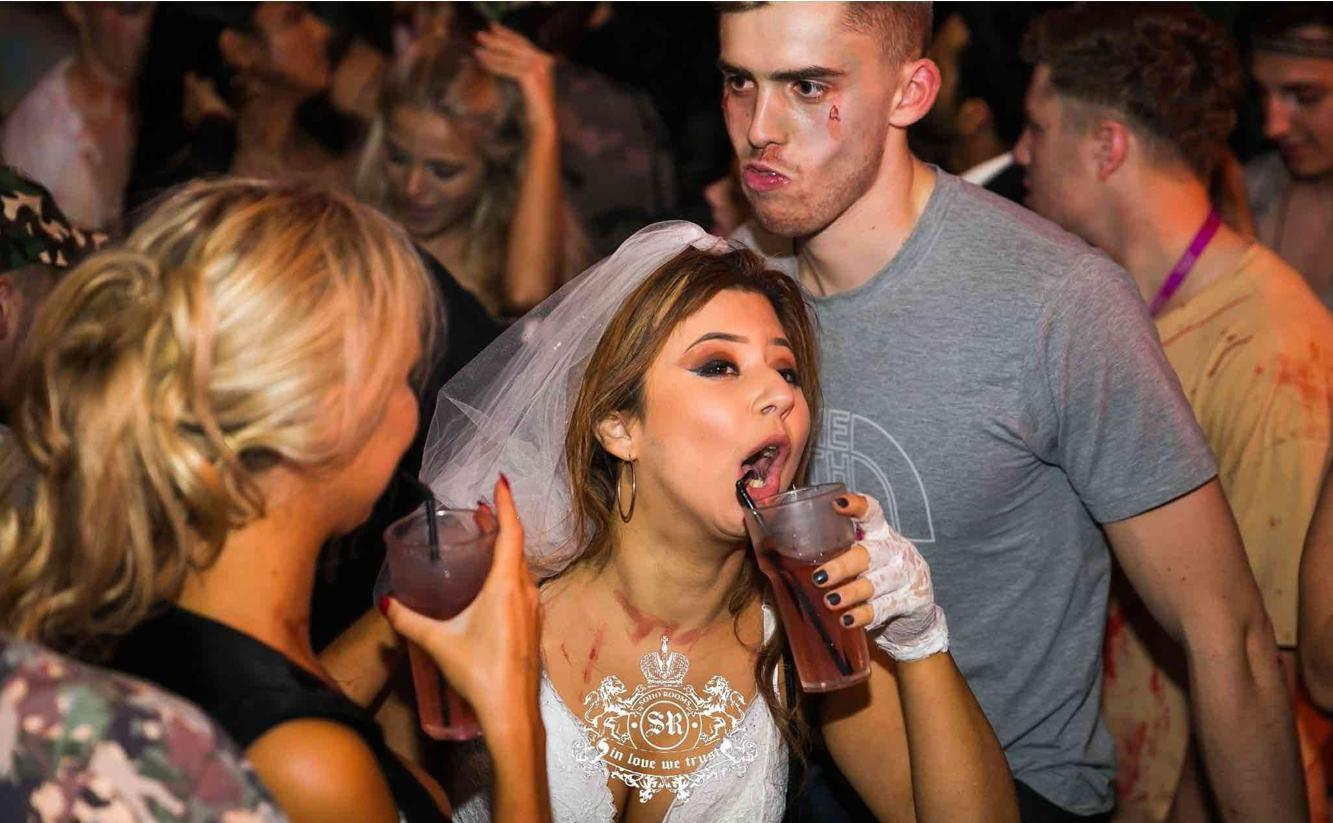Drunk: (717, 5, 895, 244), (646, 289, 807, 529)
